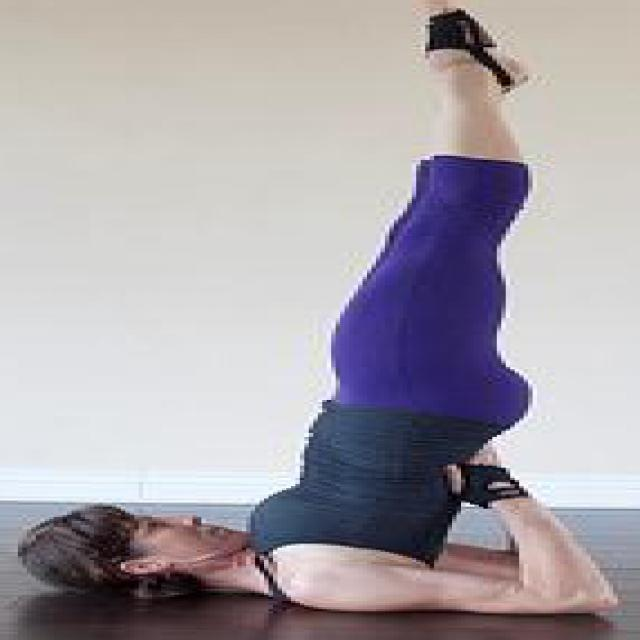yoga-pose shoulderstand: (19, 0, 614, 615)
